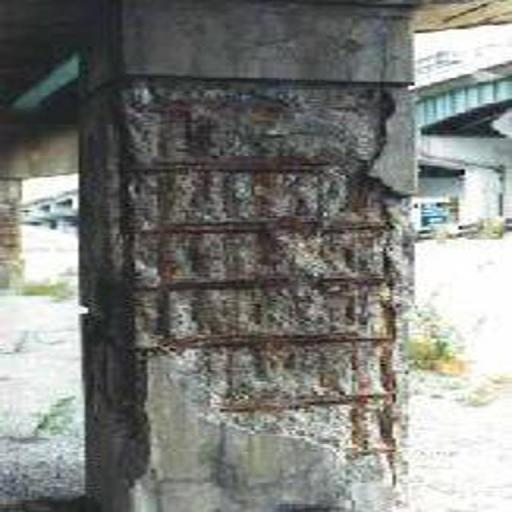spalling: (83, 86, 415, 478)
